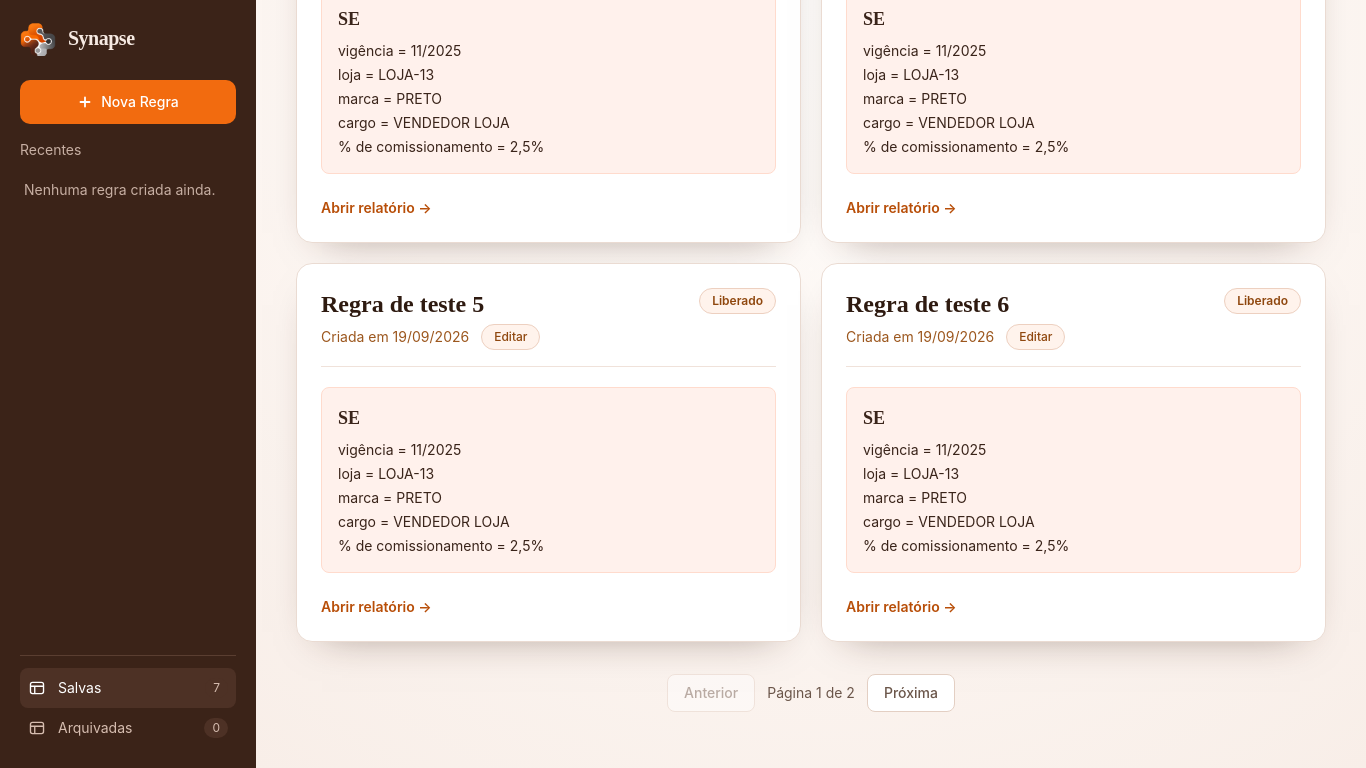
Scenario: HistoricoJobsView › pagina a lista quando há mais de seis regras
(page scrolled)
Expected: the text "Regra de teste 7" is not shown
Click the button "Próxima" at x=911, y=693, box [867,674,955,712]
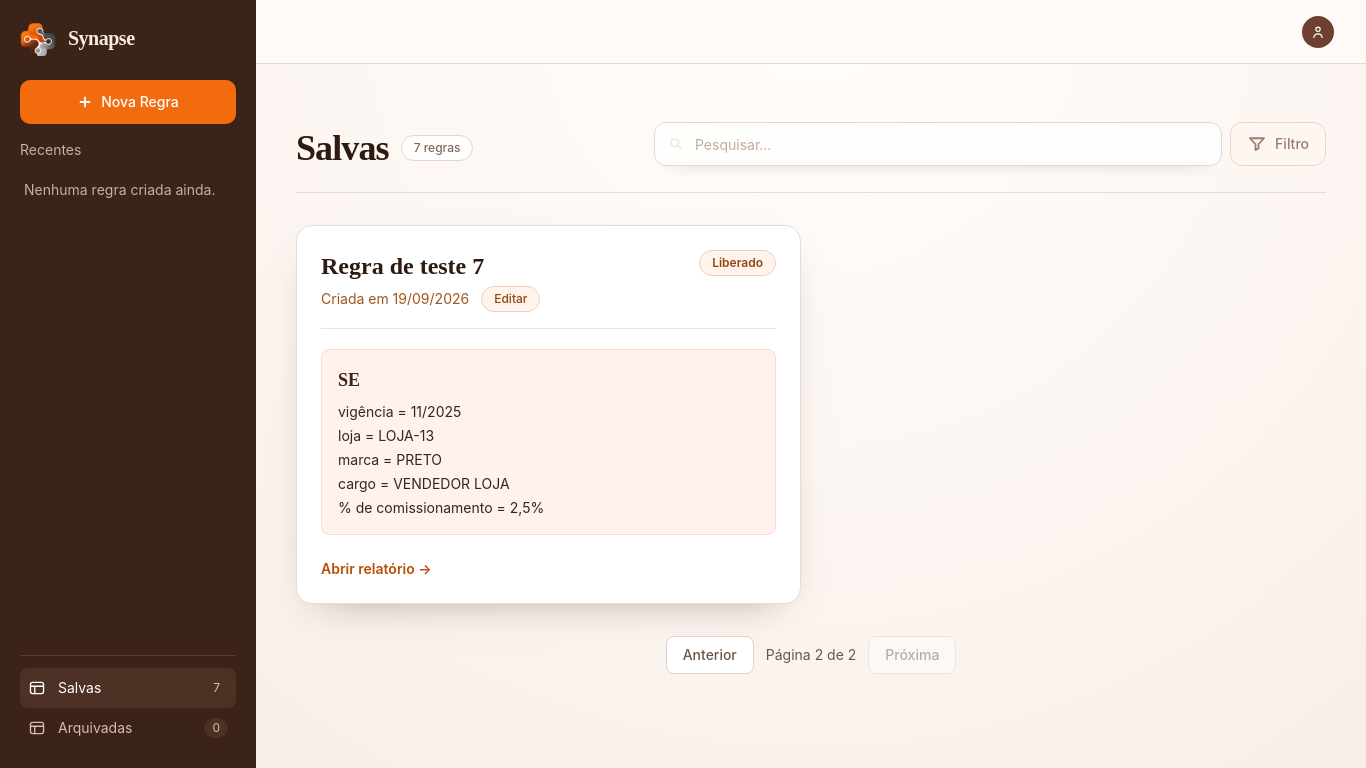
Now the text "Página 2 de 2" is shown, box [766,645,856,665]
Now the text "Regra de teste 7" is shown, box [321,253,484,279]
